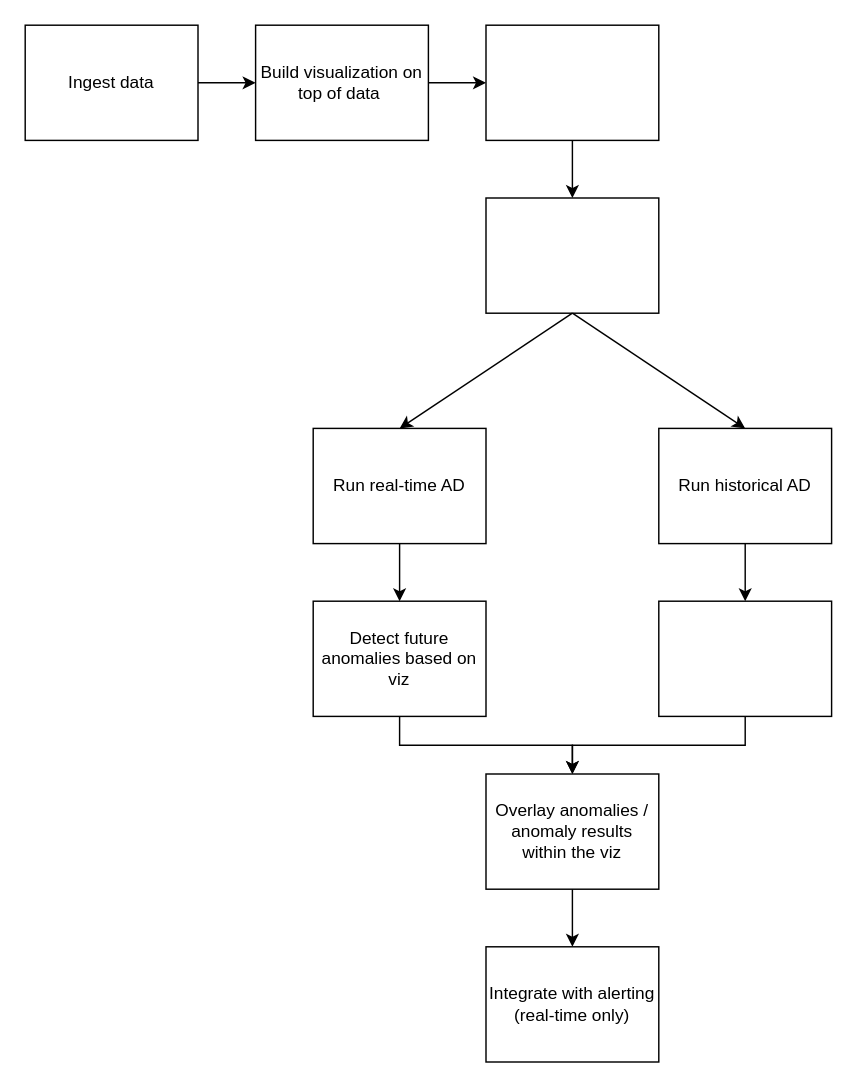
Image size: 857x1087. Some labels were removed from this diagram. Each missing label, with the centre of its shape:
Construct anomaly detector using fields provided in viz: the point at 572,255
Deeper data analysis: the point at 572,82
Detect existing anomalies based on viz: the point at 744,658
